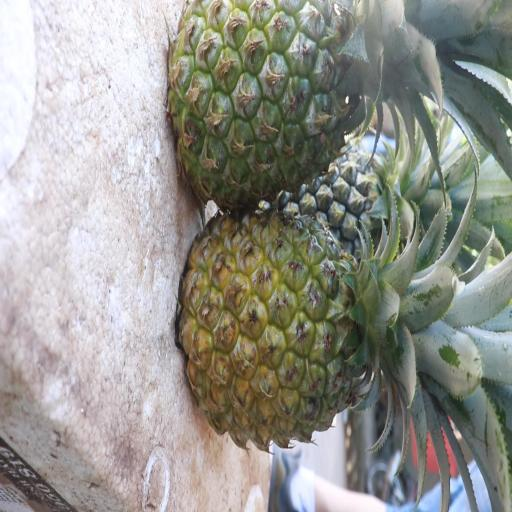------------------------------: (165, 0, 400, 196)
Pineapple - v8 v1: (178, 216, 419, 454)
